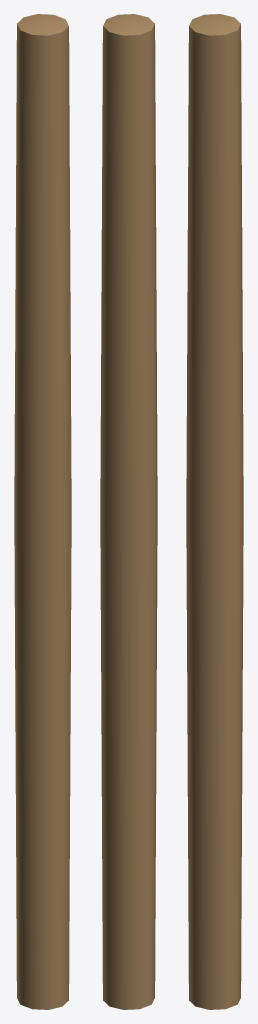
The model's file is hanbo.glb.
3 renders of one model, left to right at view 1: azimuth 30°, elevation 25°; view 2: azimuth 150°, elevation 25°; view 3: azimuth 330°, elevation 25°, orthographic.
Parts seen in each view (by area): view 1: hanbo; view 2: hanbo; view 3: hanbo.
Part boxes in pixels (<box>): hanbo: <box>14,14,71,1009</box>; hanbo: <box>100,14,157,1009</box>; hanbo: <box>186,14,243,1009</box>.
Bounding box in the file's own units: 0.066 × 1.24 × 0.0628.
